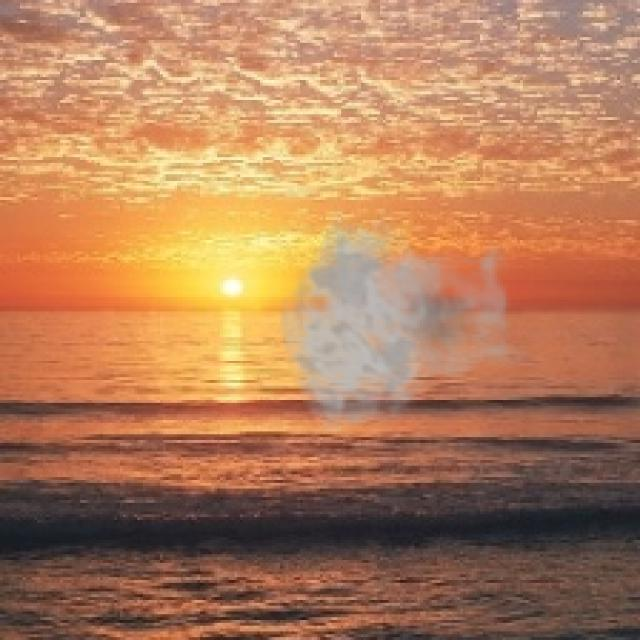smoke: (277, 203, 529, 437)
